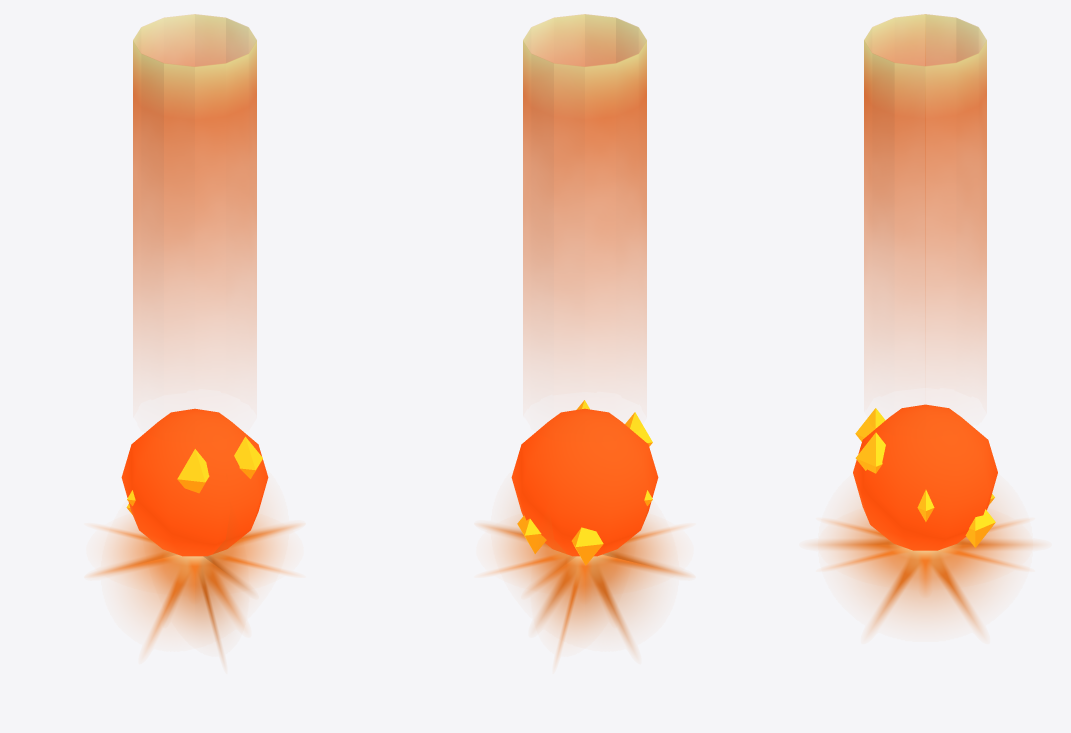
The model's file is fx_meteor_max.glb.
The picture shows the model from 3 angles, left to right: view 1: azimuth 30°, elevation 25°; view 2: azimuth 150°, elevation 25°; view 3: azimuth 270°, elevation 25°; orthographic projection.
Visible parts, largest first — view 1: fx_met_trail, fx_met_rock, fx_met_glow, fx_met_lava; view 2: fx_met_trail, fx_met_rock, fx_met_glow, fx_met_lava; view 3: fx_met_trail, fx_met_rock, fx_met_glow, fx_met_lava.
Boxes of the visible parts, left/top/right/bottom form: fx_met_trail: left=133, top=14, right=256, bottom=372; fx_met_rock: left=121, top=408, right=268, bottom=556; fx_met_glow: left=90, top=508, right=299, bottom=659; fx_met_lava: left=126, top=436, right=262, bottom=514; fx_met_trail: left=523, top=14, right=646, bottom=372; fx_met_rock: left=511, top=408, right=658, bottom=556; fx_met_glow: left=480, top=508, right=689, bottom=659; fx_met_lava: left=517, top=400, right=652, bottom=565; fx_met_trail: left=864, top=14, right=986, bottom=380; fx_met_rock: left=853, top=404, right=997, bottom=550; fx_met_glow: left=813, top=502, right=1037, bottom=632; fx_met_lava: left=855, top=408, right=995, bottom=547.
Size of the model in its own units: 3.2 by 8.4 by 3.2.
4 materials, 2 textured.
